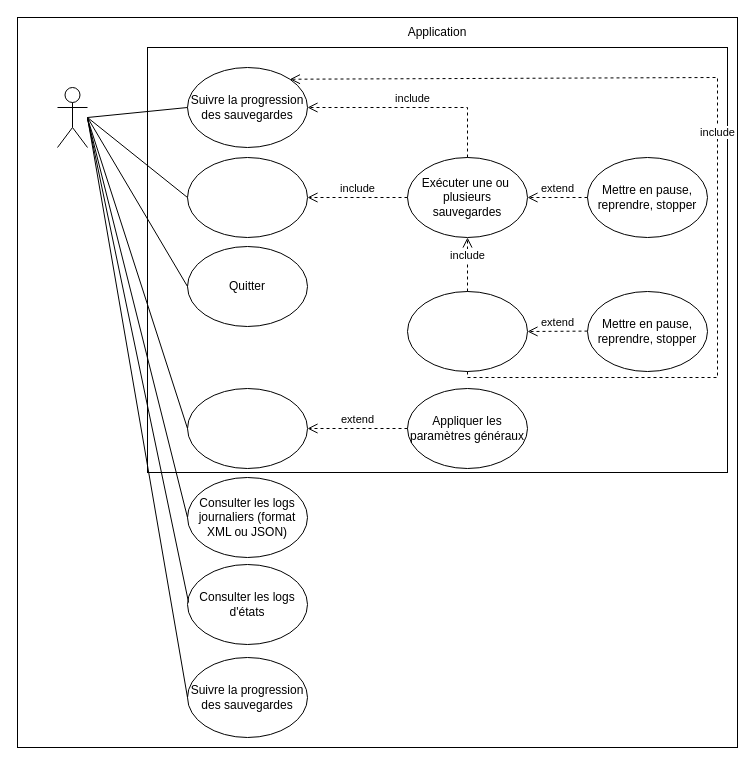
Image size: 755x765. Some labels were removed from this diagram. Here are the shapes that lost their labels. From the top down, the centre of each, then its label:
[72,117]: Actor
[247,197]: Créer une ou plusieurs sauvegardes
[467,331]: Récupérer une ou plusieurs sauvegardes
[247,428]: Consulter les paramètres généraux
